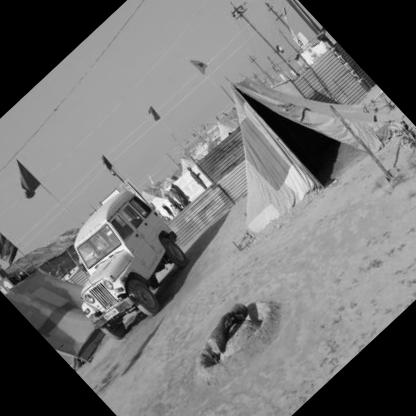car: (20, 166, 217, 362)
